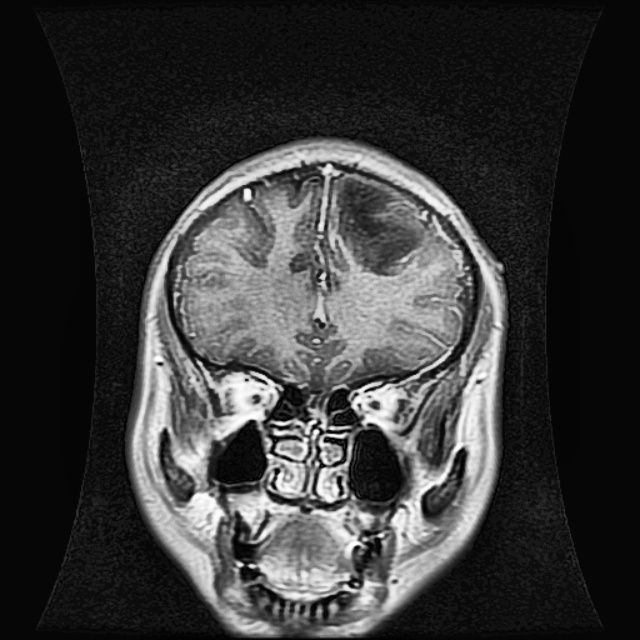Meningioma: (323, 177, 427, 277)
